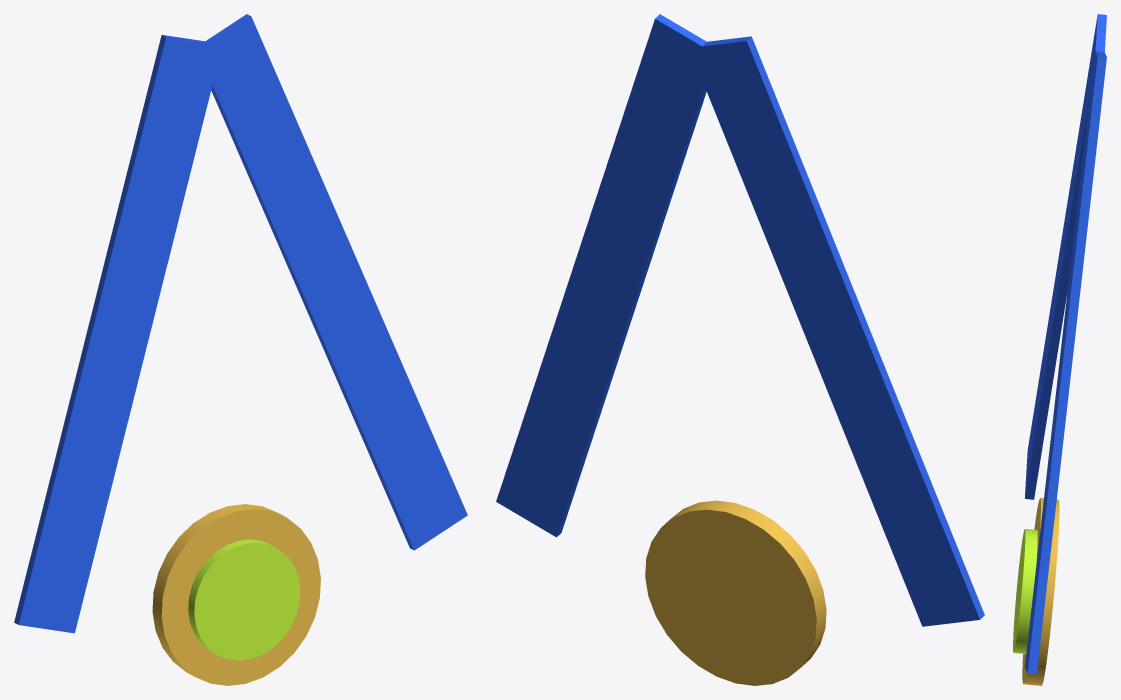
Rendered from accessory_medal_female.glb.
3 renders of one model, left to right at view 1: azimuth 30°, elevation 25°; view 2: azimuth 150°, elevation 25°; view 3: azimuth 270°, elevation 25°, orthographic. The views are drawn at different scales.
Visible parts, largest first — view 1: ribbon (×2), medal, medal_face; view 2: ribbon (×2), medal; view 3: ribbon (×2), medal_face, medal.
Boxes of the visible parts, x1,y1,x2,y2 form: ribbon (×2): (14, 14, 467, 633); medal: (152, 504, 320, 685); medal_face: (188, 539, 300, 660); ribbon (×2): (496, 14, 984, 626); medal: (645, 500, 826, 685); ribbon (×2): (1025, 14, 1106, 674); medal_face: (1013, 529, 1037, 653); medal: (1022, 498, 1059, 685).
Size of the model in its own units: 0.1692 by 0.2273 by 0.0302.
